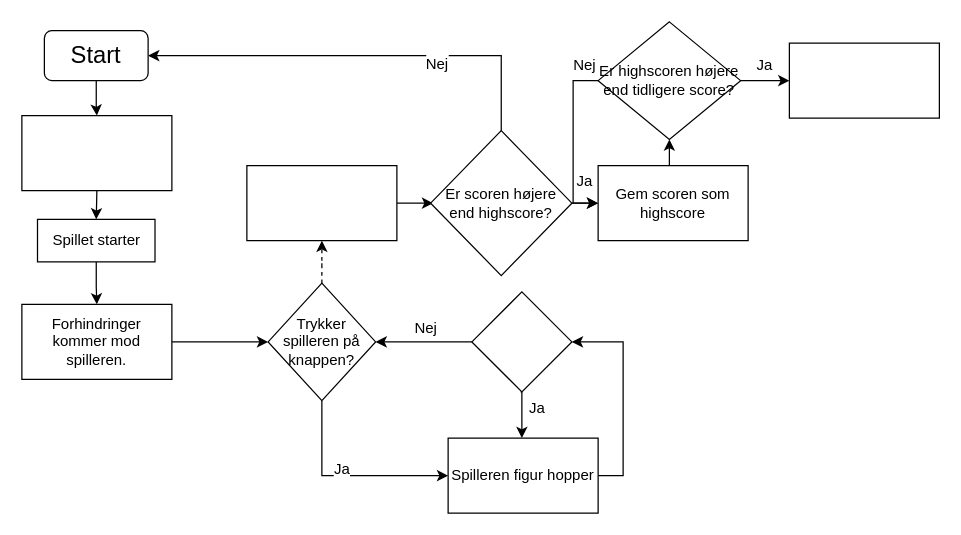
Image size: 961x535. Some labels were removed from this diagram. Here are the shapes that lost their labels. From the top down, the centre of each, then its label:
At point 863,80: "Gem scoren i skyen. (Så den er en global highscore)".
At point 96,152: "Blokken starter med at indlæse tidligere scorer".
At point 321,202: "Spilleren nåde ikke og trykke på knappen".
At point 521,341: "Holdes knappen nede?".
